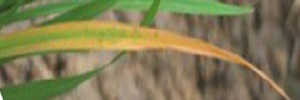RiceTungro: (7, 26, 198, 55)
